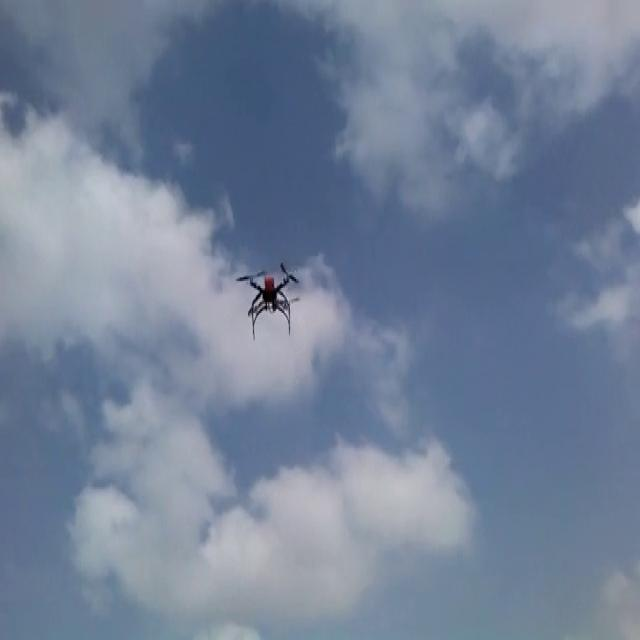drone: (235, 258, 300, 338)
